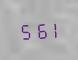five: (18, 21, 30, 40)
one: (45, 19, 57, 39)
six: (32, 20, 44, 39)
